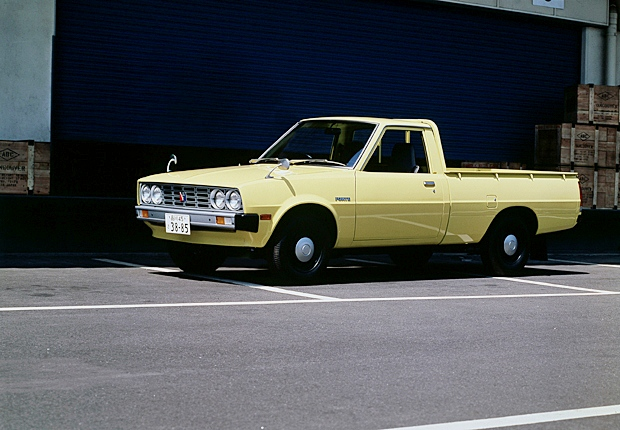pickup: (130, 113, 585, 283)
